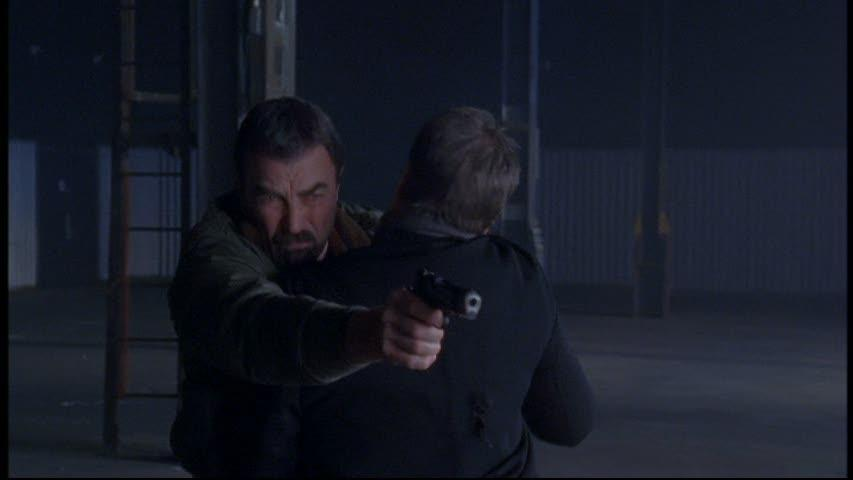gun: (391, 265, 481, 365)
